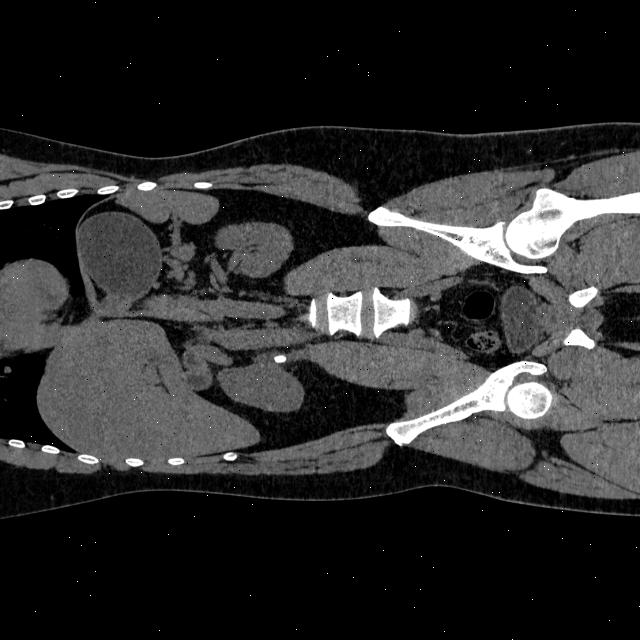kidneystone: (273, 354, 287, 362)
